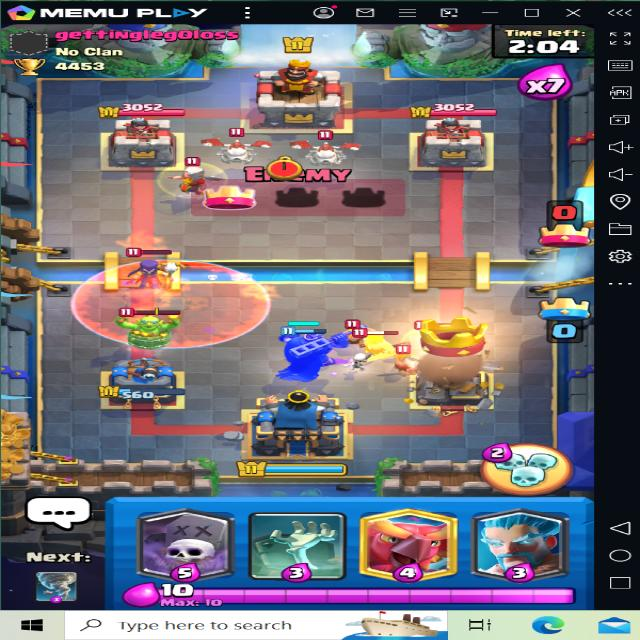Barbarian: (349, 328, 397, 360), (337, 318, 379, 348), (391, 343, 434, 372)
Battlehealer: (160, 157, 232, 196)
Goblindemolisher: (117, 303, 182, 347)
Skeletondragon: (291, 132, 353, 174), (208, 128, 266, 168)
witch: (124, 249, 170, 287)
